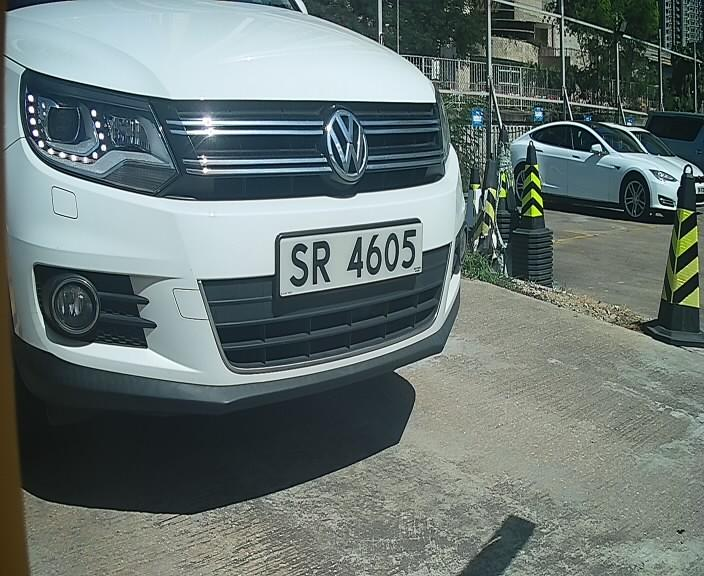License Plate: (265, 214, 428, 307)
